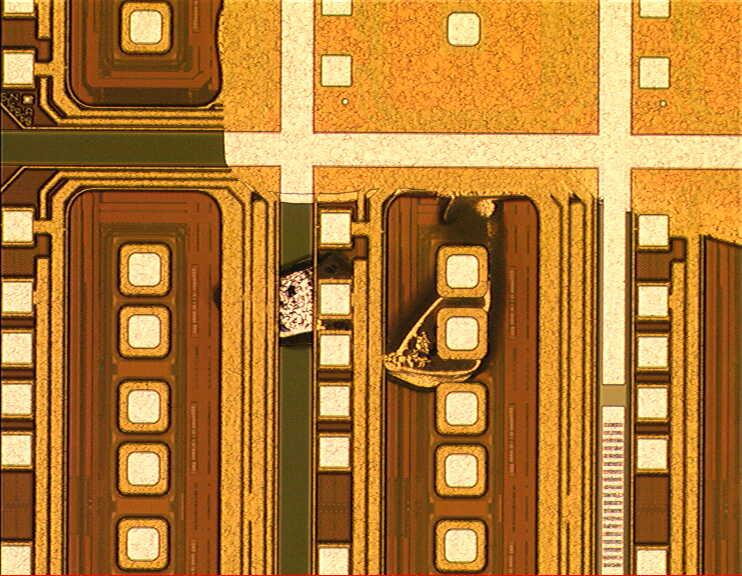BLOCK ETCH: (196, 1, 742, 398)
